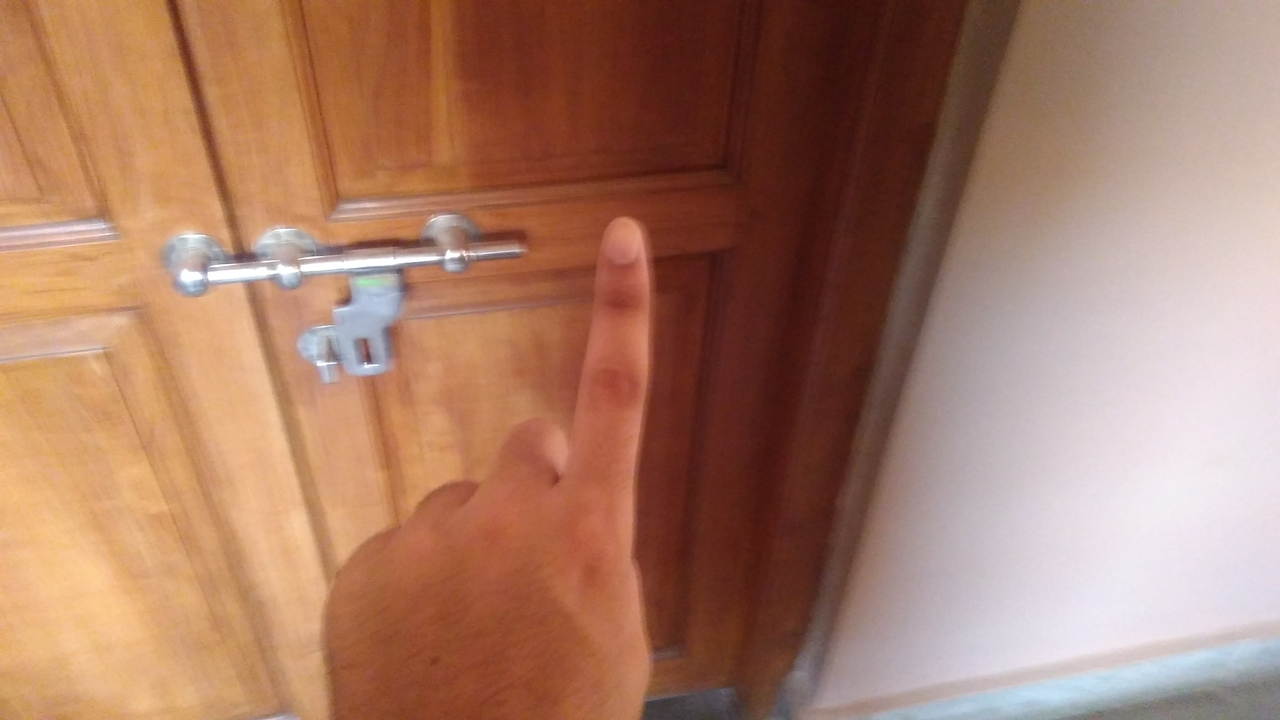fingertip: (586, 208, 658, 272)
